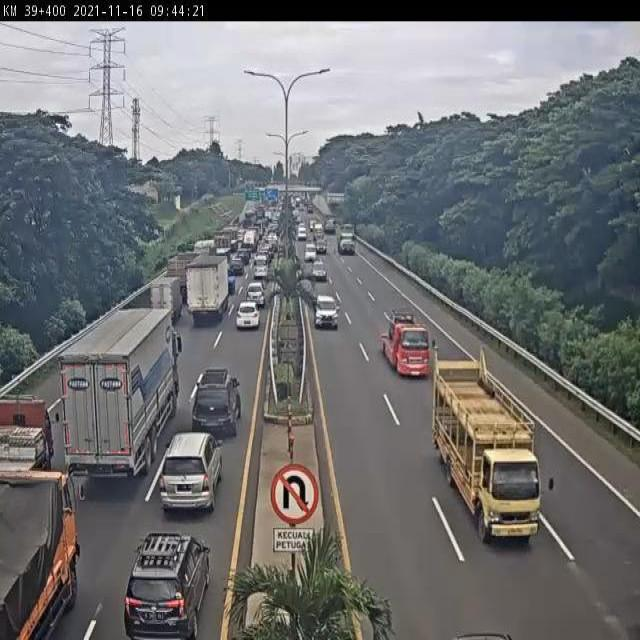car: (127, 530, 205, 634), (158, 434, 220, 514), (195, 368, 242, 432), (316, 298, 339, 326), (237, 303, 260, 328), (247, 283, 266, 305), (254, 255, 269, 277), (313, 260, 327, 281), (305, 243, 318, 260), (231, 257, 243, 271), (317, 237, 326, 255), (298, 226, 307, 238)
small truck: (434, 348, 542, 548), (381, 316, 436, 383), (152, 278, 179, 318), (243, 229, 258, 251), (323, 214, 338, 234), (313, 221, 326, 240)
truck-l-: (64, 304, 179, 476), (339, 225, 357, 255)
truck-m-: (0, 468, 72, 640), (0, 396, 59, 477), (188, 256, 232, 328)
